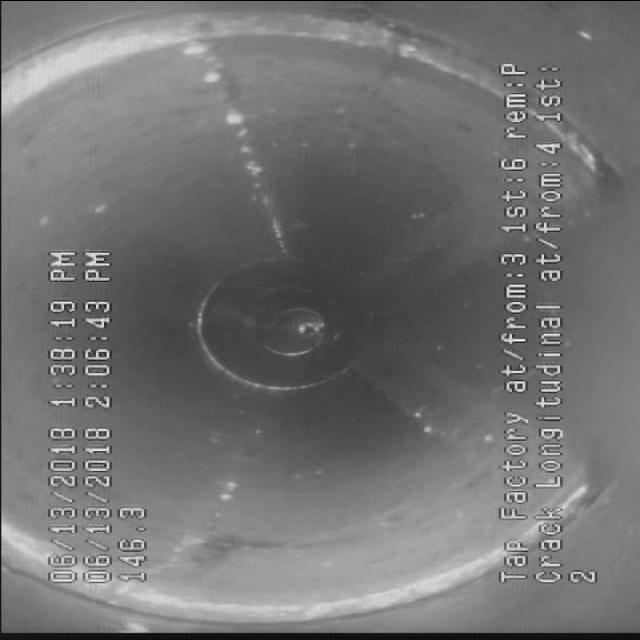Crack: (175, 21, 314, 257)
